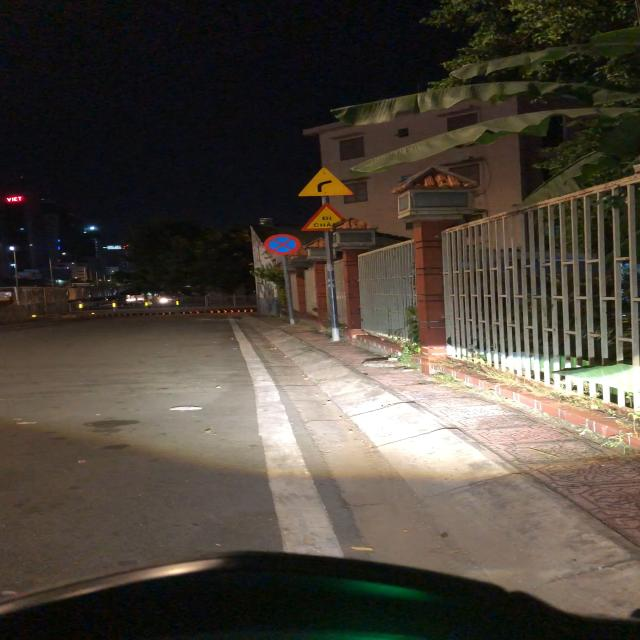Bien bao cam dung xe va do xe: (262, 232, 302, 256)
Bien bao cho ngoat nguy hiem: (298, 165, 354, 198)
Bien bao di cham: (301, 200, 352, 230)
